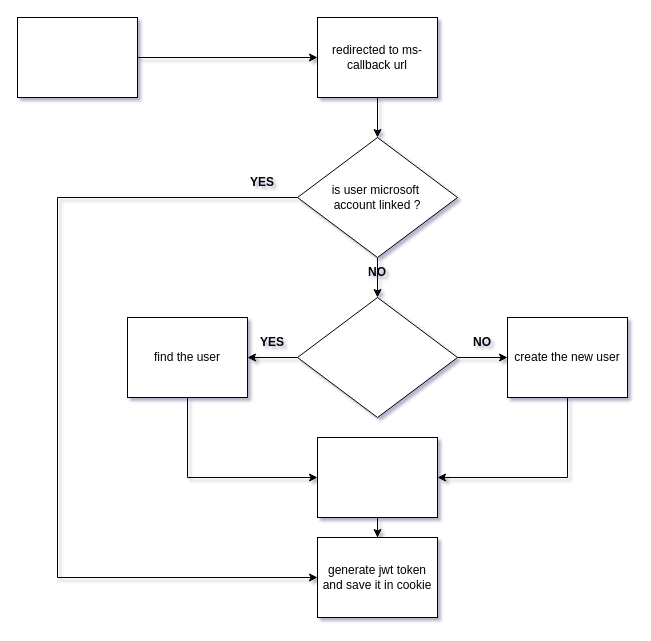
Some shapes in this 651 by 641 pixel diagram are drawn without their labels. Each missing label, with the box of its shape:
challenge user to authenticate: (16, 16, 138, 98)
link user microsoft account: (316, 436, 438, 518)
user already exist ?: (296, 296, 458, 418)
